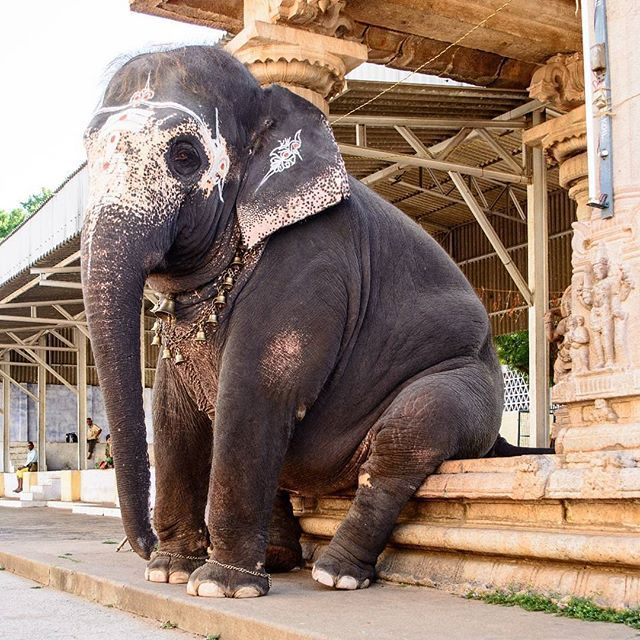Indian Elephant: (46, 35, 528, 608)
